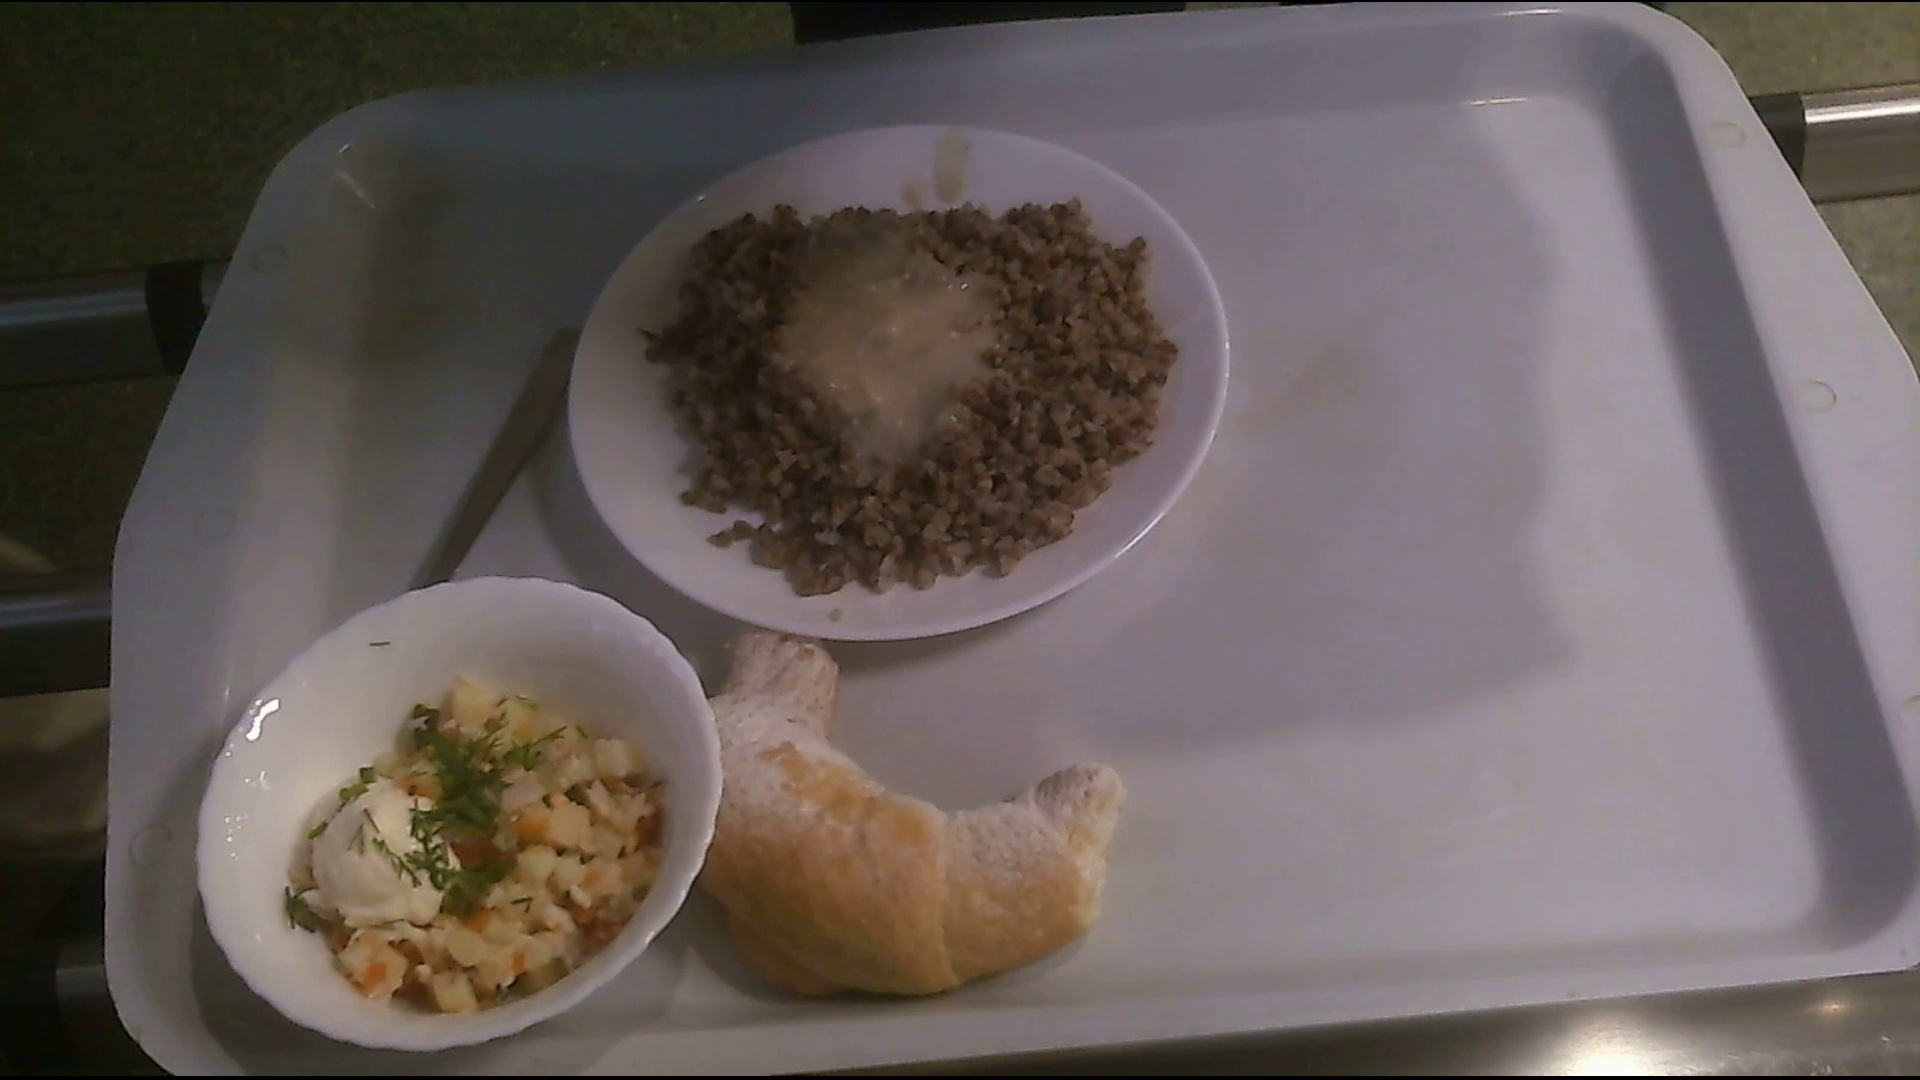bowl: (189, 582, 720, 1047)
other: (703, 626, 1130, 1011)
plate: (574, 131, 1220, 644)
